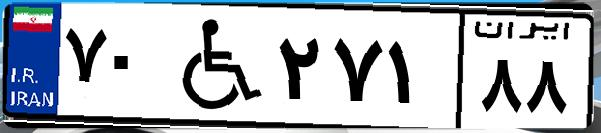0: (110, 28, 158, 98)
1: (385, 28, 445, 110)
2: (270, 28, 330, 110)
7: (330, 28, 385, 110), (57, 26, 110, 100)
8: (475, 38, 525, 113), (525, 38, 570, 115)
ژ (معلولین و جانبازان): (158, 12, 270, 120)
